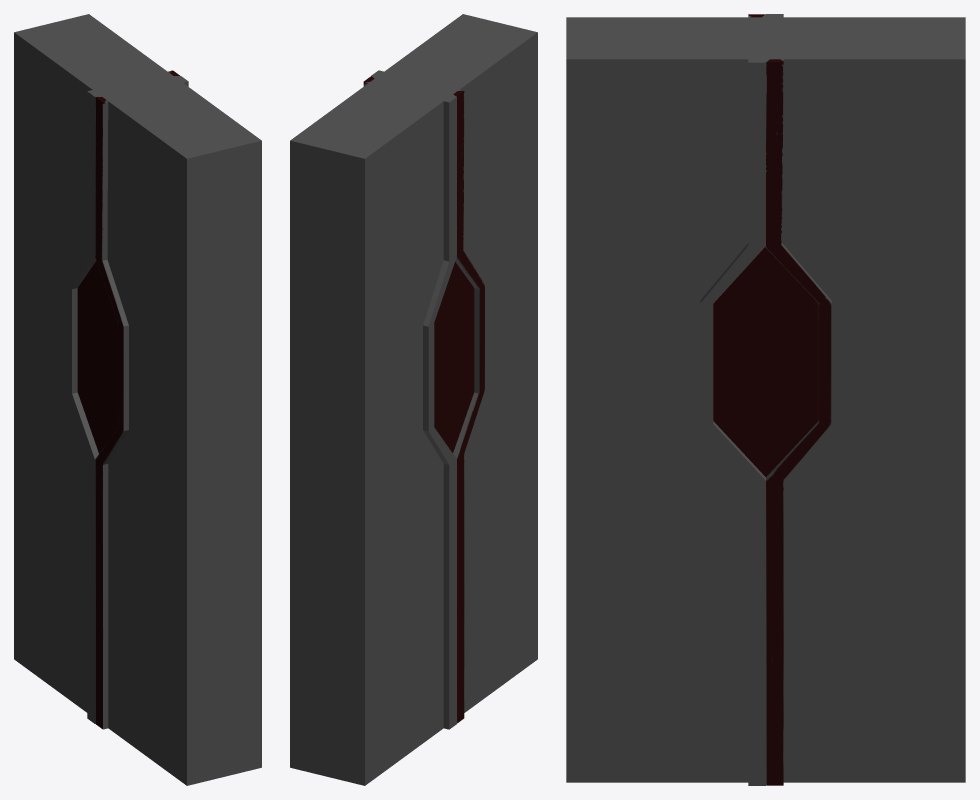
File: Lab_Door_Slide.fbx
3 views of the same model, side by side, from view 1: azimuth 30°, elevation 25°; view 2: azimuth 150°, elevation 25°; view 3: azimuth 270°, elevation 25° (orthographic). The views are drawn at different scales.
Visible parts, largest first — view 1: pCube36, pCube51; view 2: pCube51, pCube36; view 3: pCube51, pCube36.
Part boxes in pixels (x1=…): pCube36: x1=77, y1=76, x2=261, y2=785; pCube51: x1=14, y1=14, x2=179, y2=723; pCube51: x1=290, y1=76, x2=456, y2=785; pCube36: x1=371, y1=14, x2=537, y2=723; pCube51: x1=713, y1=14, x2=965, y2=785; pCube36: x1=566, y1=14, x2=765, y2=785.
Bounding box in the file's own units: 0.2877 × 2 × 1.
